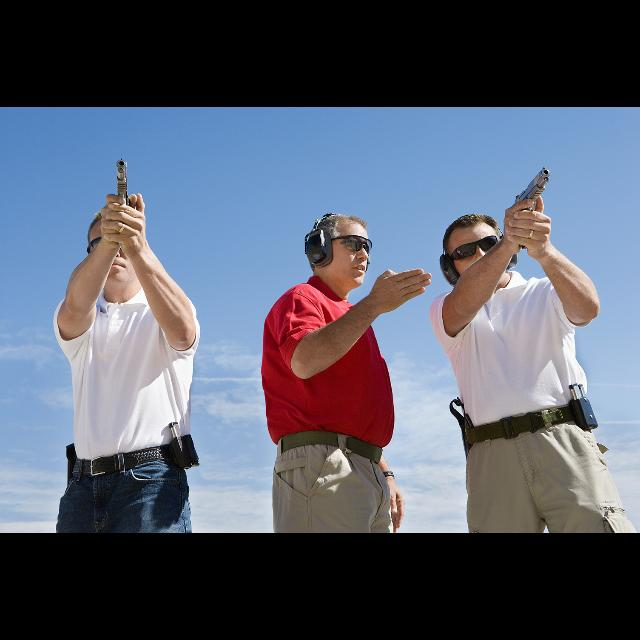handgun: (511, 162, 553, 225), (113, 154, 133, 218)
